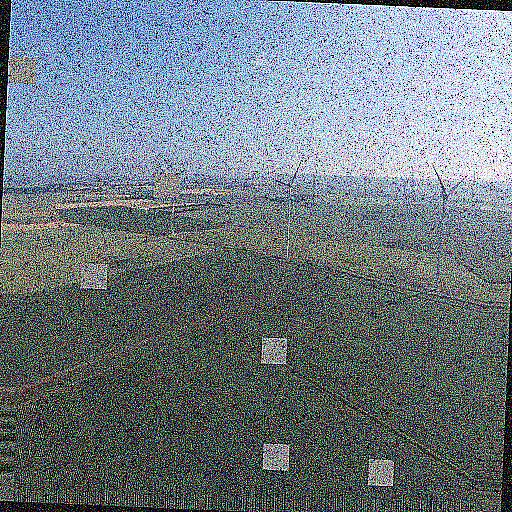wind turbine: (429, 164, 470, 271), (269, 154, 306, 261)
